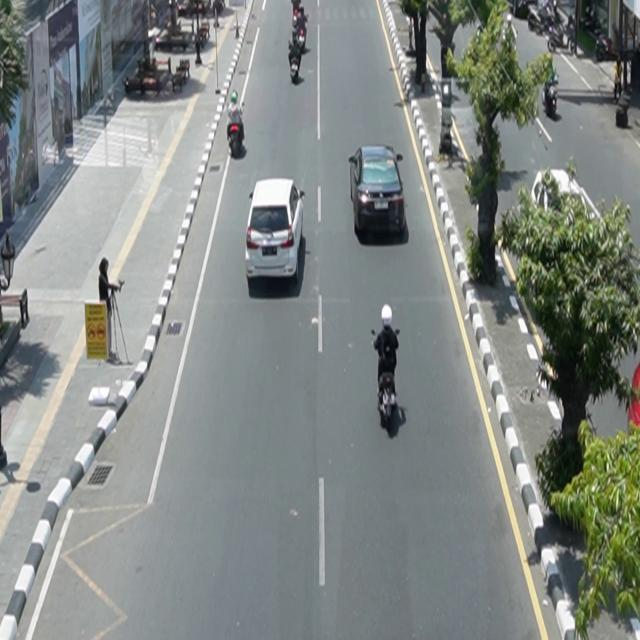car: (246, 178, 306, 284), (349, 145, 406, 237)
